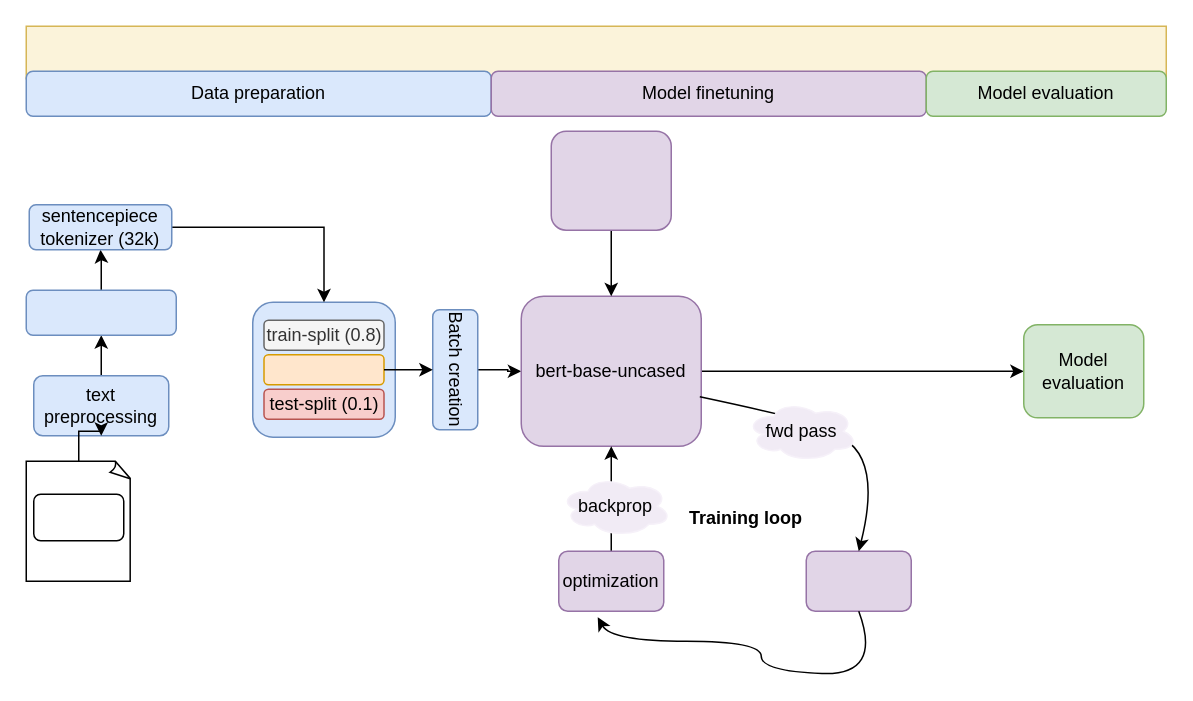
This 1193x701 diagram has some shape labels left out. The shapes that lost their labels are listed below. From the top down, each one's centre as x and y in pixels, then its label:
[595,52]: Retriever model development lifecycle
[610,180]: Load pretrained weights from huggingface
[100,312]: Random shuffling
[323,369]: val-split (0.1)
[78,517]: esrs data
[858,580]: loss computation
